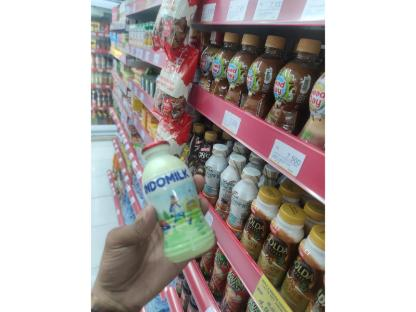Others: (140, 141, 218, 265), (265, 38, 323, 136), (257, 205, 306, 289), (278, 226, 324, 312), (242, 34, 286, 118), (240, 186, 280, 258), (224, 175, 258, 237), (212, 155, 240, 220), (201, 146, 226, 210)
